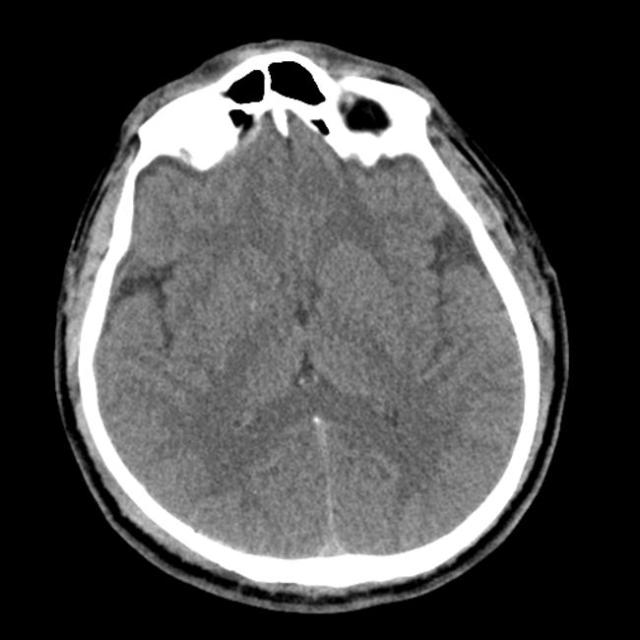lesion: (51, 38, 572, 610)
